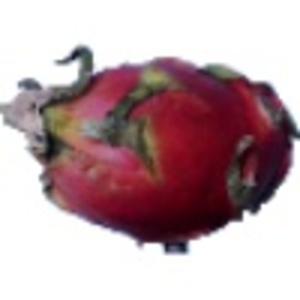pitaia: (1, 45, 300, 257)
